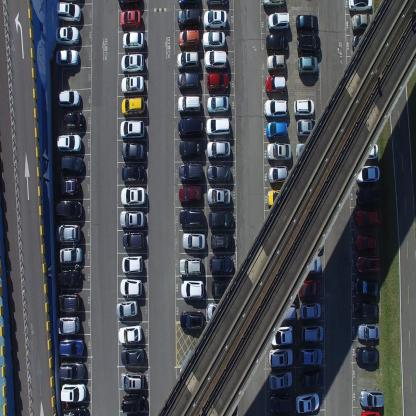car: (55, 0, 82, 25), (206, 300, 235, 322), (295, 390, 320, 414), (178, 160, 204, 182), (179, 207, 205, 229), (355, 185, 381, 207), (354, 276, 380, 298), (56, 131, 82, 153), (58, 360, 85, 381), (300, 367, 324, 390), (206, 162, 231, 184), (178, 116, 203, 138), (296, 33, 321, 55), (119, 118, 144, 140), (120, 370, 145, 392), (60, 382, 86, 403), (262, 98, 289, 118), (298, 277, 321, 300), (179, 137, 203, 159), (268, 368, 292, 390), (204, 48, 228, 70), (270, 324, 294, 346), (206, 186, 231, 207), (269, 346, 294, 367), (266, 187, 291, 208), (55, 24, 80, 45), (205, 116, 231, 136), (208, 210, 234, 230), (266, 142, 292, 162), (355, 164, 381, 184), (355, 209, 381, 229), (355, 254, 381, 274), (119, 209, 145, 229), (120, 394, 146, 414), (59, 337, 85, 357), (210, 279, 237, 298), (178, 27, 200, 50), (119, 7, 142, 29), (116, 298, 139, 320), (268, 392, 292, 413), (178, 184, 202, 205), (178, 256, 202, 277), (203, 8, 227, 29), (355, 298, 379, 319), (120, 53, 144, 74), (55, 200, 83, 218), (209, 254, 234, 274), (120, 74, 145, 94), (120, 141, 145, 161), (120, 186, 145, 206), (120, 346, 145, 366), (55, 224, 81, 243), (55, 268, 82, 286), (177, 70, 199, 92), (206, 71, 229, 92), (176, 49, 199, 70), (296, 117, 319, 138), (119, 276, 142, 297), (56, 315, 79, 336), (206, 139, 230, 159), (180, 279, 204, 299), (177, 94, 201, 114), (272, 301, 296, 321), (356, 345, 380, 365), (360, 388, 384, 408), (121, 96, 145, 116), (121, 163, 145, 183), (57, 88, 81, 108), (297, 255, 322, 274), (122, 30, 144, 51), (63, 109, 85, 130), (265, 32, 288, 52), (357, 321, 380, 341), (121, 254, 144, 274), (118, 324, 141, 344), (180, 310, 204, 329), (206, 94, 230, 113), (176, 8, 200, 27), (298, 346, 322, 365), (296, 140, 320, 159), (351, 34, 376, 52), (293, 97, 315, 117), (264, 74, 286, 94), (268, 11, 290, 31), (357, 141, 379, 161), (58, 292, 80, 312), (202, 29, 225, 48), (301, 323, 324, 342), (295, 14, 318, 33), (121, 231, 144, 250), (61, 155, 84, 174), (210, 233, 234, 251), (182, 232, 206, 250), (55, 48, 79, 66), (59, 246, 83, 264), (298, 55, 318, 76), (300, 301, 322, 320), (352, 14, 375, 32), (266, 52, 286, 72), (268, 165, 289, 184), (356, 233, 378, 251), (60, 177, 80, 196), (266, 121, 287, 138), (348, 0, 373, 14), (61, 405, 89, 415), (262, 0, 286, 8), (206, 0, 228, 7), (178, 0, 200, 7), (118, 0, 140, 7), (360, 409, 380, 415)
